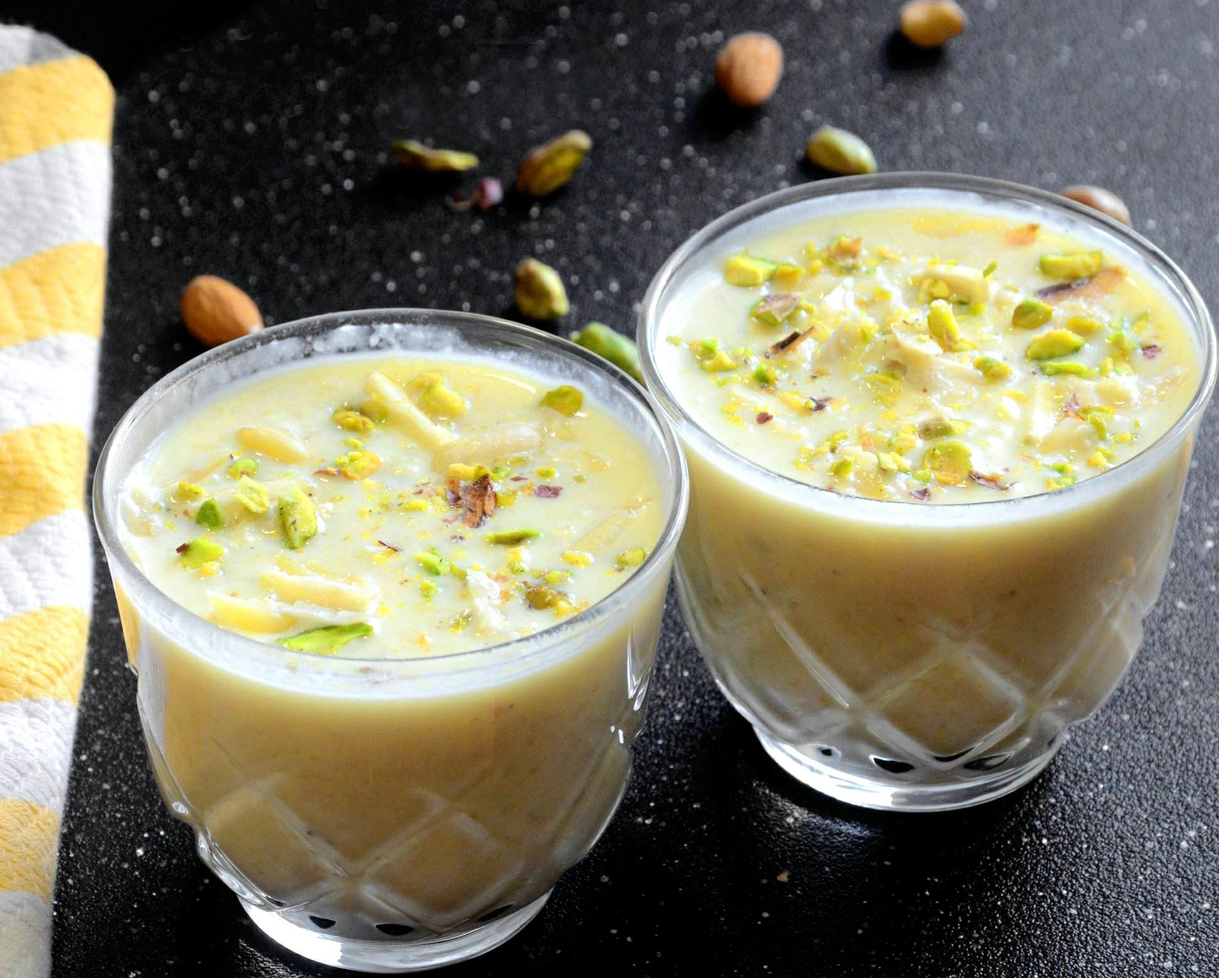Kheer: (651, 185, 1203, 776), (120, 348, 667, 927)
